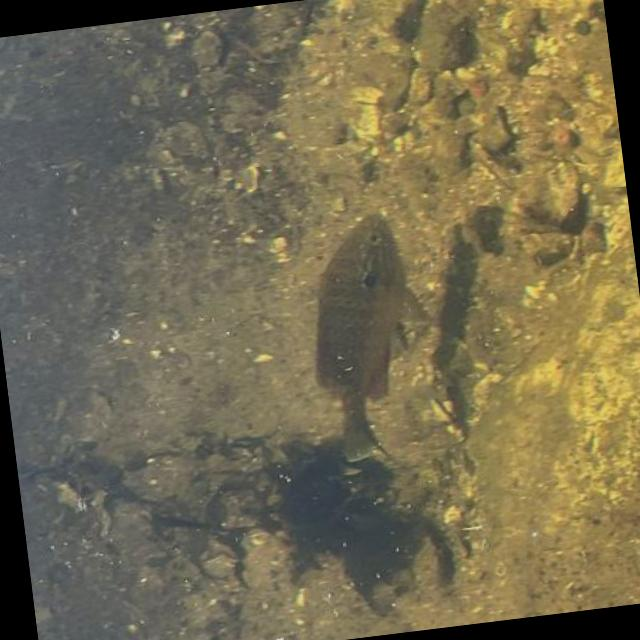Gunes Levregi: (291, 203, 451, 474)
